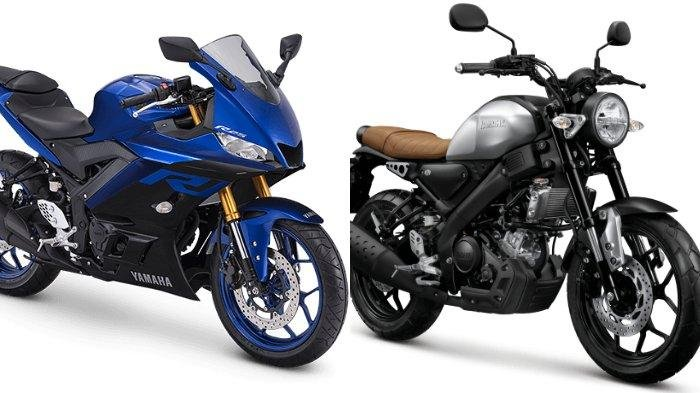motor: (351, 74, 700, 393), (1, 56, 345, 370)
